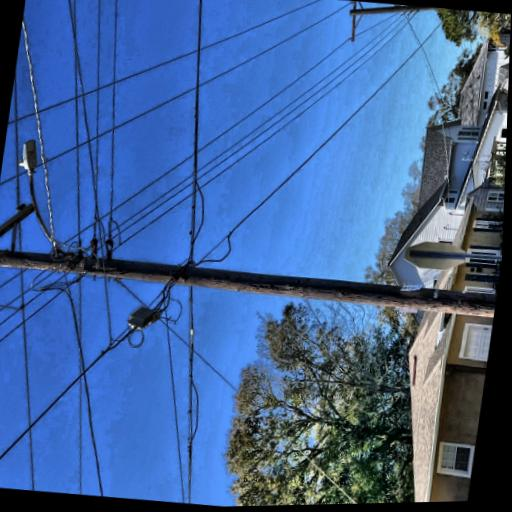pole: (45, 4, 155, 496)
street light: (118, 115, 235, 207)
